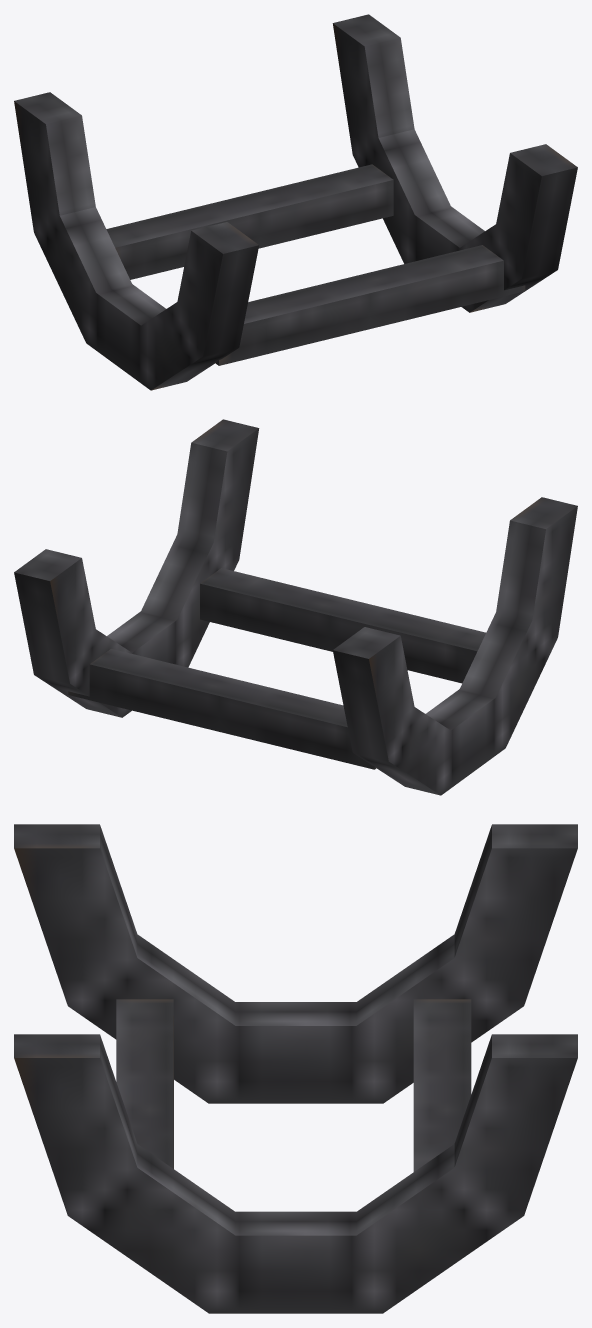
File: beer_holder.fbx
3 renders of one model, top to bottom at view 1: azimuth 30°, elevation 25°; view 2: azimuth 150°, elevation 25°; view 3: azimuth 270°, elevation 25°, orthographic. The views are drawn at different scales.
Visible parts, largest first — view 1: pCube17; view 2: pCube17; view 3: pCube17.
Part boxes in pixels (left/top/right/bottom): pCube17: left=14, top=14, right=577, bottom=390; pCube17: left=14, top=419, right=577, bottom=795; pCube17: left=14, top=824, right=577, bottom=1313.
Size of the model in its own units: 164 by 83.76 by 168.
